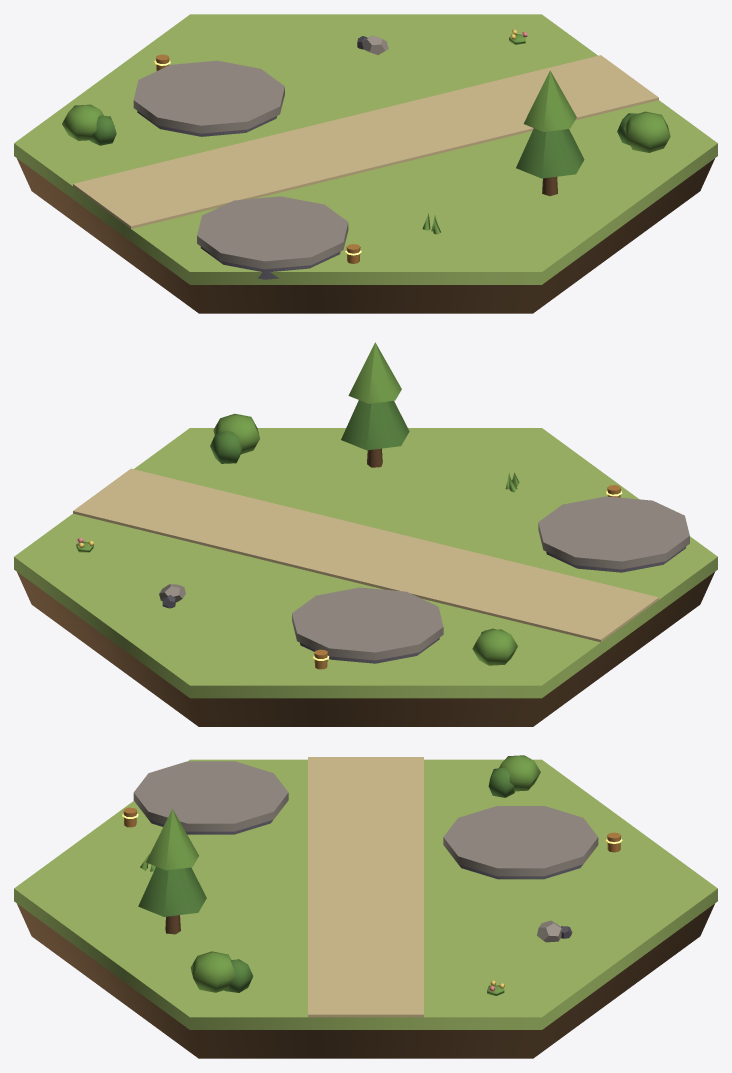
Rendered from tile_mineRoad.glb.
3 views of the same model, one above another, from view 1: azimuth 30°, elevation 25°; view 2: azimuth 150°, elevation 25°; view 3: azimuth 270°, elevation 25° (orthographic).
Visible parts, largest first — view 1: ground, road, ground_soil, tower_slot_1_plate, tower_slot_2_plate, road_hub, deco_tree_3_crown, deco_tree_3_crown_b, deco_bush_0_a, deco_bush_5_a, tower_slot_2_socket, deco_bush_5_b (+1 smaller); view 2: ground, road, ground_soil, tower_slot_2_plate, tower_slot_1_plate, road_hub, deco_tree_3_crown, deco_tree_3_crown_b, deco_bush_5_a, deco_bush_0_a, deco_bush_0_b; view 3: ground, road, ground_soil, tower_slot_1_plate, tower_slot_2_plate, deco_tree_3_crown, deco_tree_3_crown_b, deco_bush_0_a, deco_bush_5_a, road_hub, deco_bush_5_b, deco_bush_0_b.
Boxes of the visible parts, x1,y1,x2,y2 form: ground: (14,14,717,284); road: (73,55,658,228); ground_soil: (17,158,714,313); tower_slot_1_plate: (133,60,284,133); tower_slot_2_plate: (197,196,348,269); road_hub: (308,116,423,164); deco_tree_3_crown: (516,128,584,178); deco_tree_3_crown_b: (523,70,576,131); deco_bush_0_a: (624,111,670,152); deco_bush_5_a: (62,104,103,140); tower_slot_2_socket: (200,247,340,279); deco_bush_5_b: (90,115,116,145); ground: (14,428,717,698); road: (73,468,658,642); ground_soil: (17,572,714,726); tower_slot_2_plate: (538,496,689,569); tower_slot_1_plate: (292,587,443,660); road_hub: (308,529,423,578); deco_tree_3_crown: (341,400,409,450); deco_tree_3_crown_b: (348,342,401,403); deco_bush_5_a: (472,629,517,665); deco_bush_0_a: (213,413,259,454); deco_bush_0_b: (210,431,242,463); ground: (14,759,717,1029); road: (308,757,423,1017); ground_soil: (17,904,714,1058); tower_slot_1_plate: (443,806,598,876); tower_slot_2_plate: (133,761,288,831); deco_tree_3_crown: (138,866,206,916); deco_tree_3_crown_b: (146,809,198,870); deco_bush_0_a: (190,951,235,992); deco_bush_5_a: (499,755,540,791); road_hub: (308,864,423,908); deco_bush_5_b: (488,767,514,797); deco_bush_0_b: (224,959,253,992).
Size of the model in its own units: 1.73 by 0.5342 by 2.
